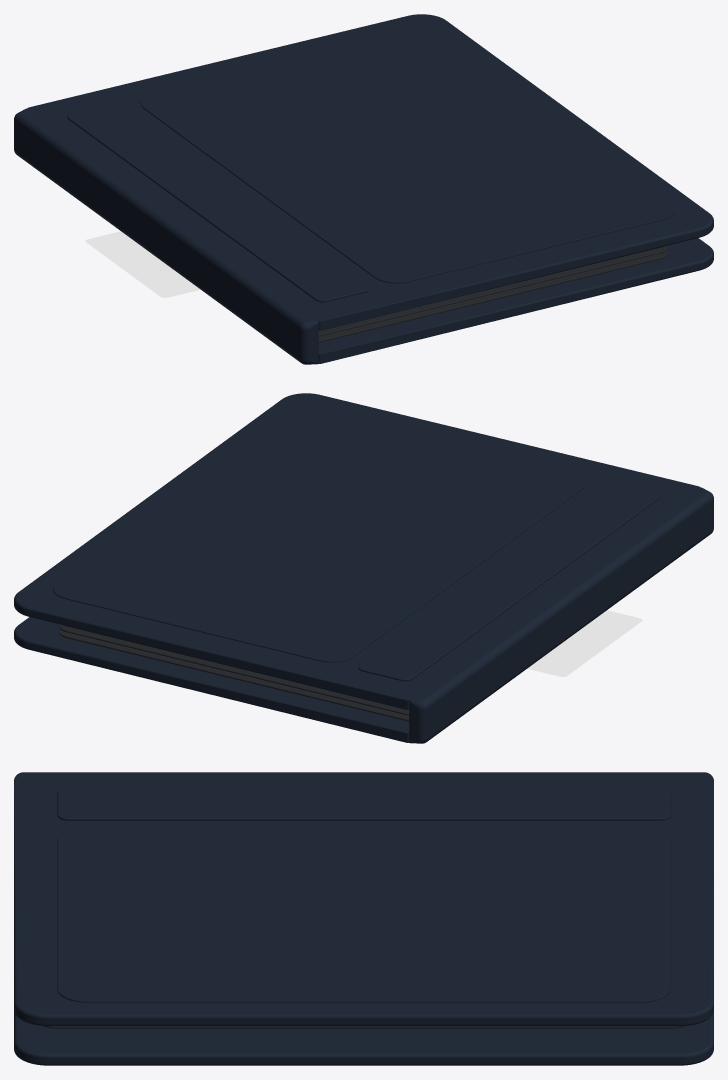
The model's file is album-4h.glb.
3 views of the same model, one above another, from view 1: azimuth 30°, elevation 25°; view 2: azimuth 150°, elevation 25°; view 3: azimuth 270°, elevation 25° (orthographic). The views are drawn at different scales.
Visible parts, largest first — view 1: Tapa_Panel, Tapa_Malla, Lomo, Tapa_Banda, Contratapa, Plantilla_Carta_F, Hoja_3_Losa, Hoja_2_Losa; view 2: Tapa_Panel, Tapa_Malla, Lomo, Tapa_Banda, Contratapa, Plantilla_Carta_F, Hoja_3_Losa, Hoja_2_Losa; view 3: Tapa_Panel, Tapa_Malla, Contratapa, Tapa_Banda, Lomo, Hoja_3_Losa.
Boxes of the visible parts, bbox=[...] form: Tapa_Panel: bbox=[140, 30, 674, 283]; Tapa_Malla: bbox=[28, 14, 713, 330]; Lomo: bbox=[14, 108, 318, 364]; Tapa_Banda: bbox=[67, 103, 369, 302]; Contratapa: bbox=[318, 238, 713, 363]; Plantilla_Carta_F: bbox=[85, 231, 200, 297]; Hoja_3_Losa: bbox=[318, 250, 668, 342]; Hoja_2_Losa: bbox=[318, 245, 668, 336]; Tapa_Panel: bbox=[53, 409, 587, 662]; Tapa_Malla: bbox=[14, 393, 699, 709]; Lomo: bbox=[409, 487, 713, 743]; Tapa_Banda: bbox=[358, 482, 660, 681]; Contratapa: bbox=[14, 617, 409, 742]; Plantilla_Carta_F: bbox=[527, 610, 642, 676]; Hoja_3_Losa: bbox=[59, 629, 409, 721]; Hoja_2_Losa: bbox=[59, 624, 409, 715]; Tapa_Panel: bbox=[57, 828, 670, 1002]; Tapa_Malla: bbox=[14, 778, 713, 1026]; Contratapa: bbox=[14, 1011, 713, 1065]; Tapa_Banda: bbox=[57, 787, 670, 820]; Lomo: bbox=[14, 772, 713, 779]; Hoja_3_Losa: bbox=[43, 1026, 684, 1028].
Bounding box in the file's own units: 0.2895 × 0.0272 × 0.322.
